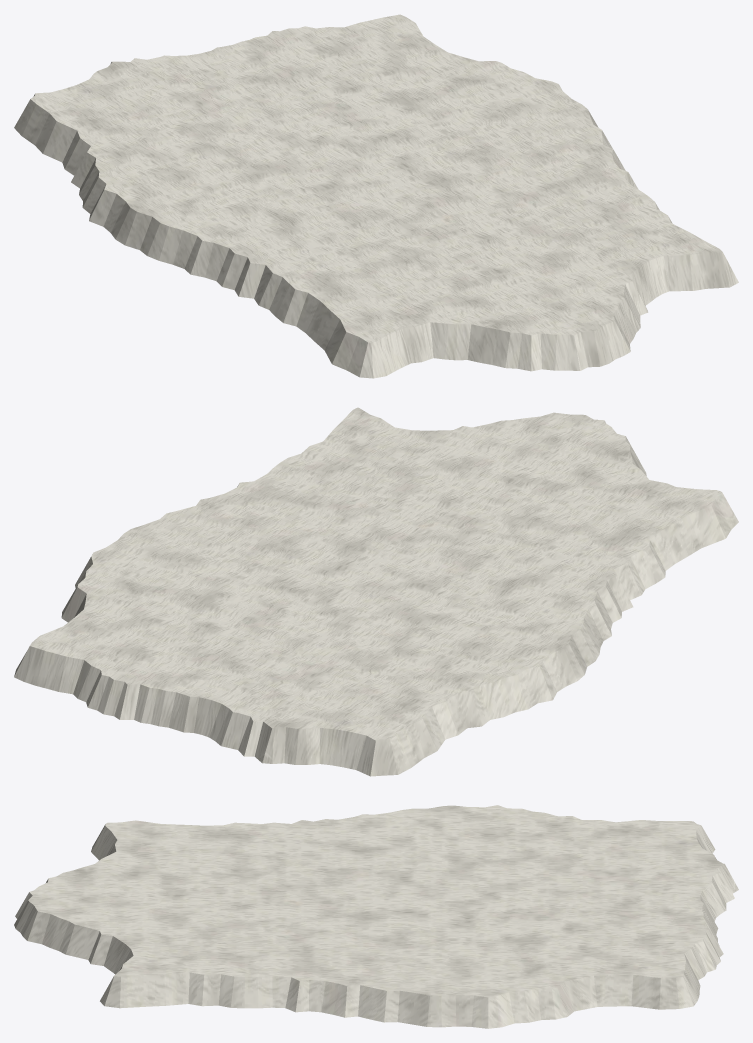
File: rug-sheepskin-ivory.glb
The picture shows the model from 3 angles, top to bottom: view 1: azimuth 30°, elevation 25°; view 2: azimuth 150°, elevation 25°; view 3: azimuth 270°, elevation 25°; orthographic projection. The views are drawn at different scales.
Parts seen in each view (by area): view 1: rug-sheepskin-ivory; view 2: rug-sheepskin-ivory; view 3: rug-sheepskin-ivory.
Part boxes in pixels (x1,y1,x2,y2): rug-sheepskin-ivory: (14, 14, 738, 378); rug-sheepskin-ivory: (14, 407, 738, 776); rug-sheepskin-ivory: (14, 805, 738, 1028).
Bounding box in the file's own units: 0.6037 × 0.035 × 0.9052.
1 material, 1 textured.
